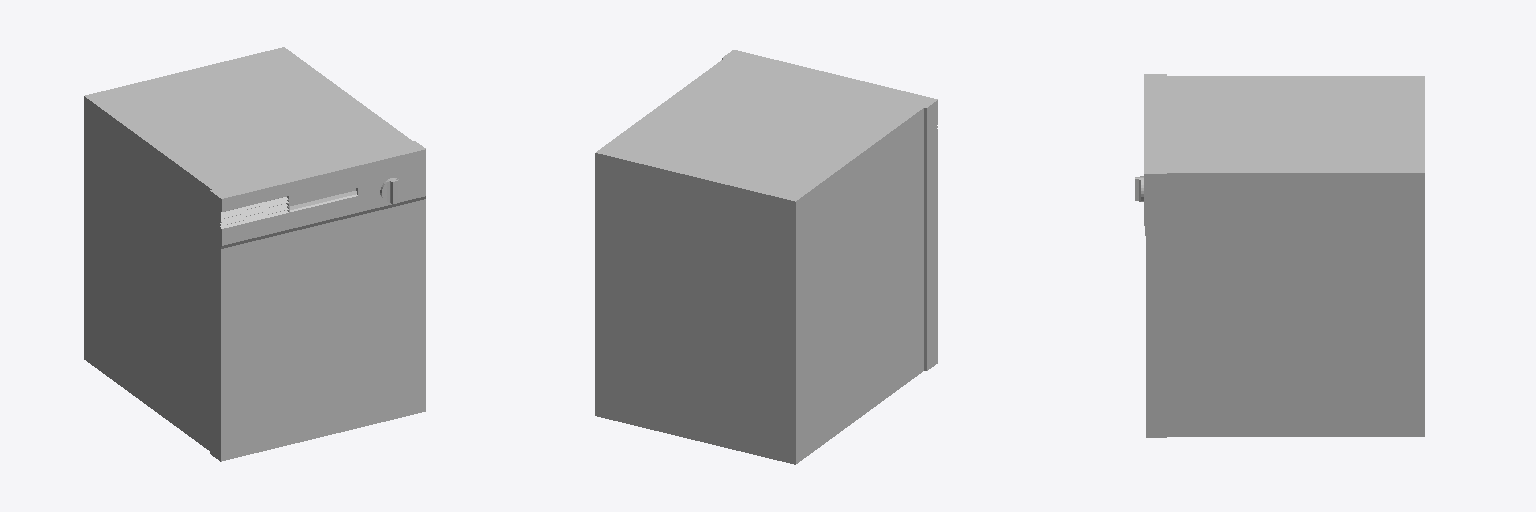
Rendered from kitchen_dishwasher.obj.
3 renders of one model, left to right at view 1: azimuth 30°, elevation 25°; view 2: azimuth 150°, elevation 25°; view 3: azimuth 270°, elevation 25°, orthographic.
Visible parts, largest first — view 1: PolyMesh_2, PolyMesh_1; view 2: PolyMesh_1, PolyMesh_2; view 3: PolyMesh_1, PolyMesh_2.
Boxes of the visible parts, box(x1,y1,x2,y2) form: PolyMesh_2: box(210, 141, 425, 461); PolyMesh_1: box(84, 47, 411, 450); PolyMesh_1: box(595, 59, 923, 464); PolyMesh_2: box(722, 50, 937, 370); PolyMesh_1: box(1167, 76, 1424, 436); PolyMesh_2: box(1144, 74, 1166, 437).
Bounding box in the file's own units: 5.04 × 6.19 × 6.16.